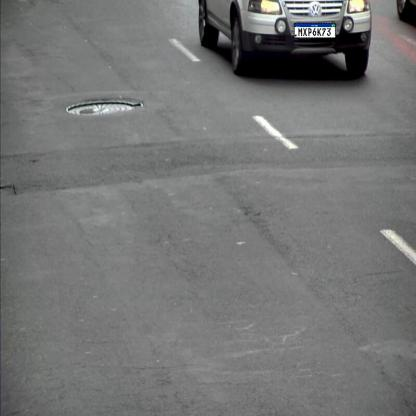PlacaM: (294, 23, 336, 38)
